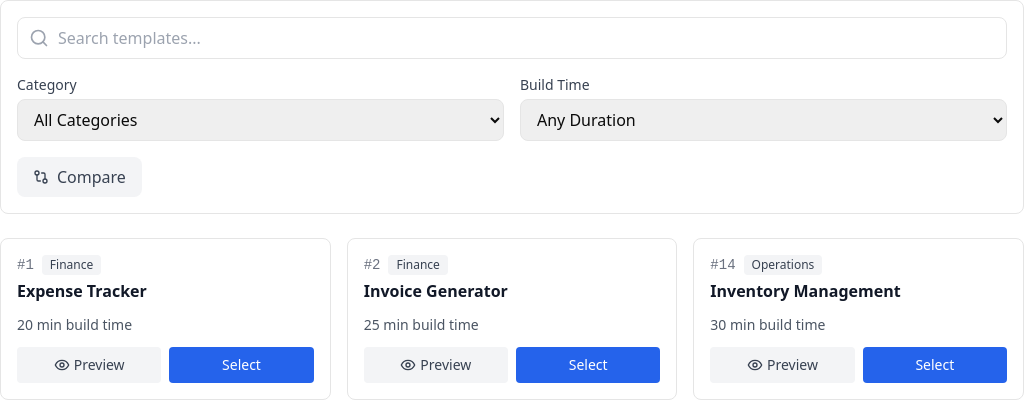
it: TemplateSelector › Template Comparison › should show comparison checkboxes when compare mode enabled
// Enable compare mode first
Click the button "Compare" at (79, 177), box [17,157,142,197]
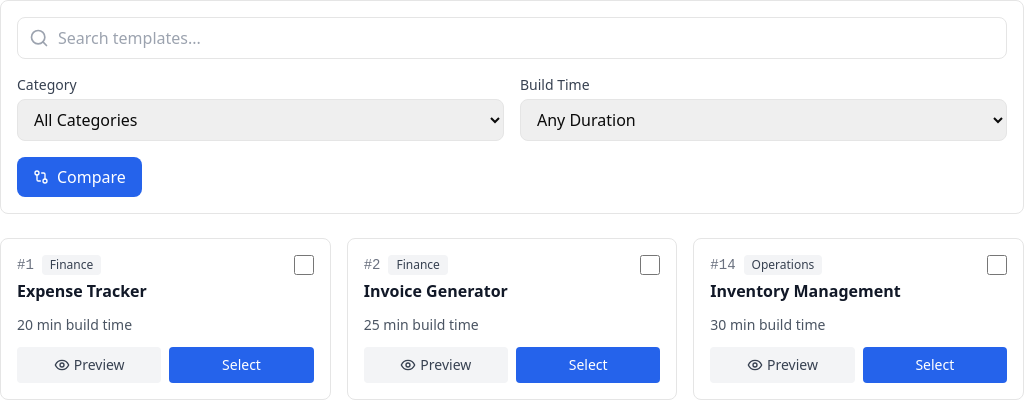
Now the number of checkboxes named "compare" is 3, box [294,255,314,275]; [640,255,660,275]; [987,255,1007,275]
